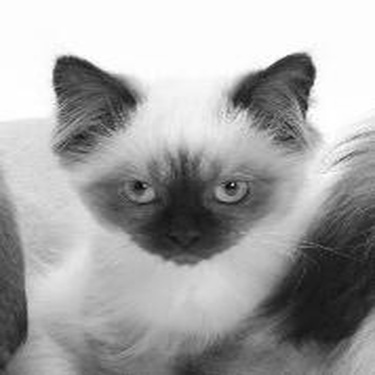cat: (48, 46, 371, 373)
